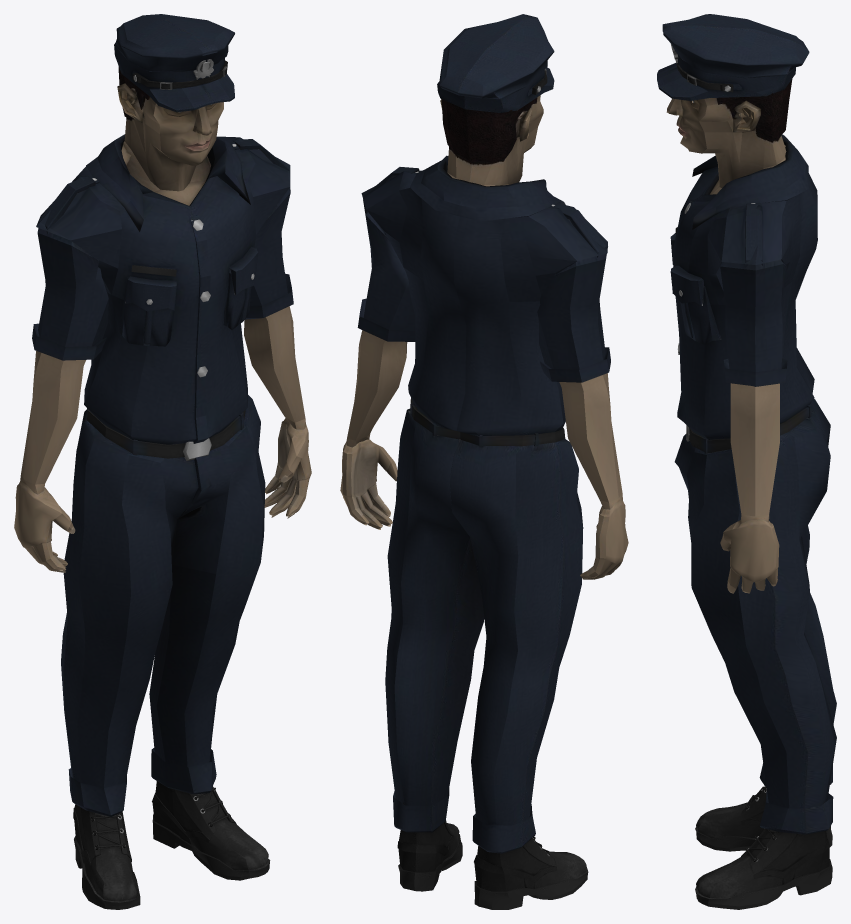
The model's file is policier.glb.
The picture shows the model from 3 angles, left to right: view 1: azimuth 30°, elevation 25°; view 2: azimuth 150°, elevation 25°; view 3: azimuth 270°, elevation 25°; orthographic projection. The views are drawn at different scales.
Visible parts, largest first — view 1: Policier_Lambert_Materials, Policier_blinn_Materials; view 2: Policier_Lambert_Materials; view 3: Policier_Lambert_Materials.
Part boxes in pixels (box(x1,y1,x2,y2)): Policier_Lambert_Materials: box(14, 14, 311, 909); Policier_blinn_Materials: box(90, 59, 254, 849); Policier_Lambert_Materials: box(340, 14, 628, 909); Policier_Lambert_Materials: box(657, 14, 836, 909).
Bounding box in the file's own units: 0.6285 × 1.8 × 0.3472.
3 materials, 2 textured.
